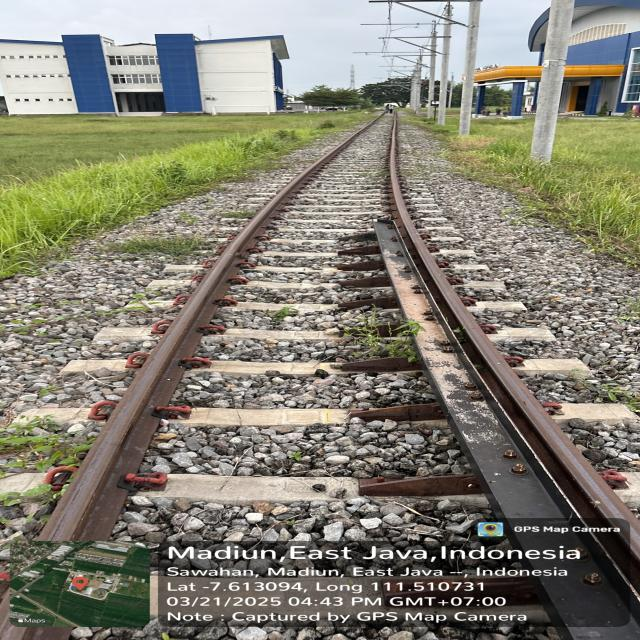rail-detection: (356, 119, 640, 640), (41, 138, 354, 540)
